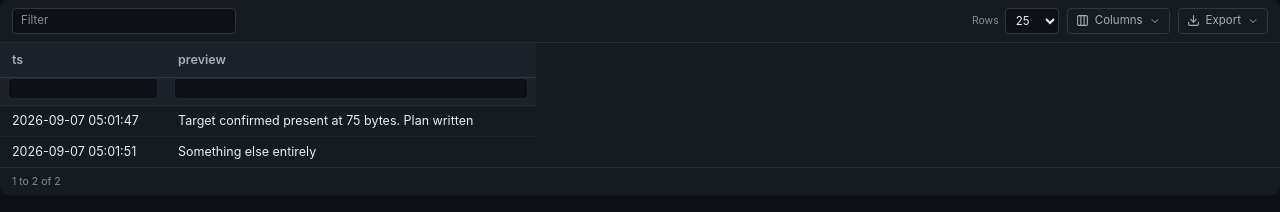
Test: searching a table whose text the server had to cut › does not match a row whose full text lacks the word
The width and height of the screenshot is (1280, 212).
In the field named "Filter tbl-messages": (124, 21) [12,8,236,34], type "ONLYINFULL"
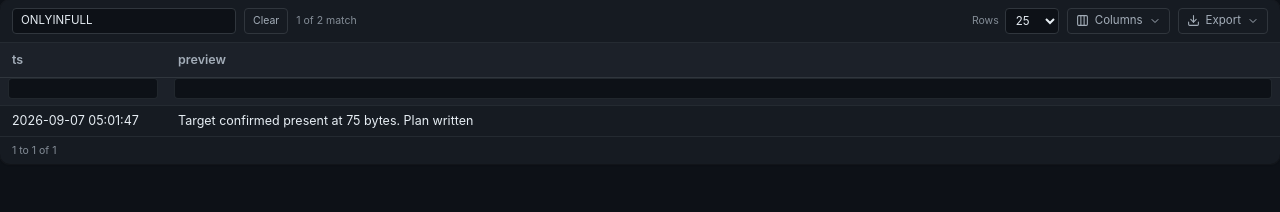
expect the text "Something else entirely" is gone: met
